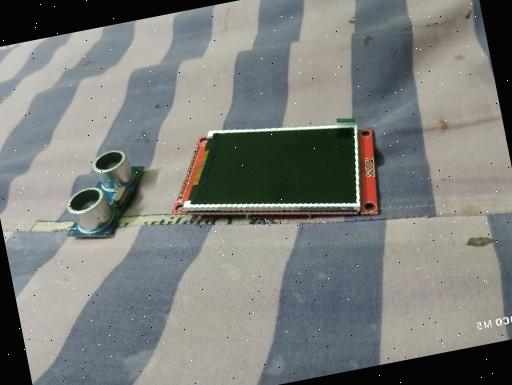Display: (156, 99, 390, 255)
sensor: (52, 144, 158, 245)
